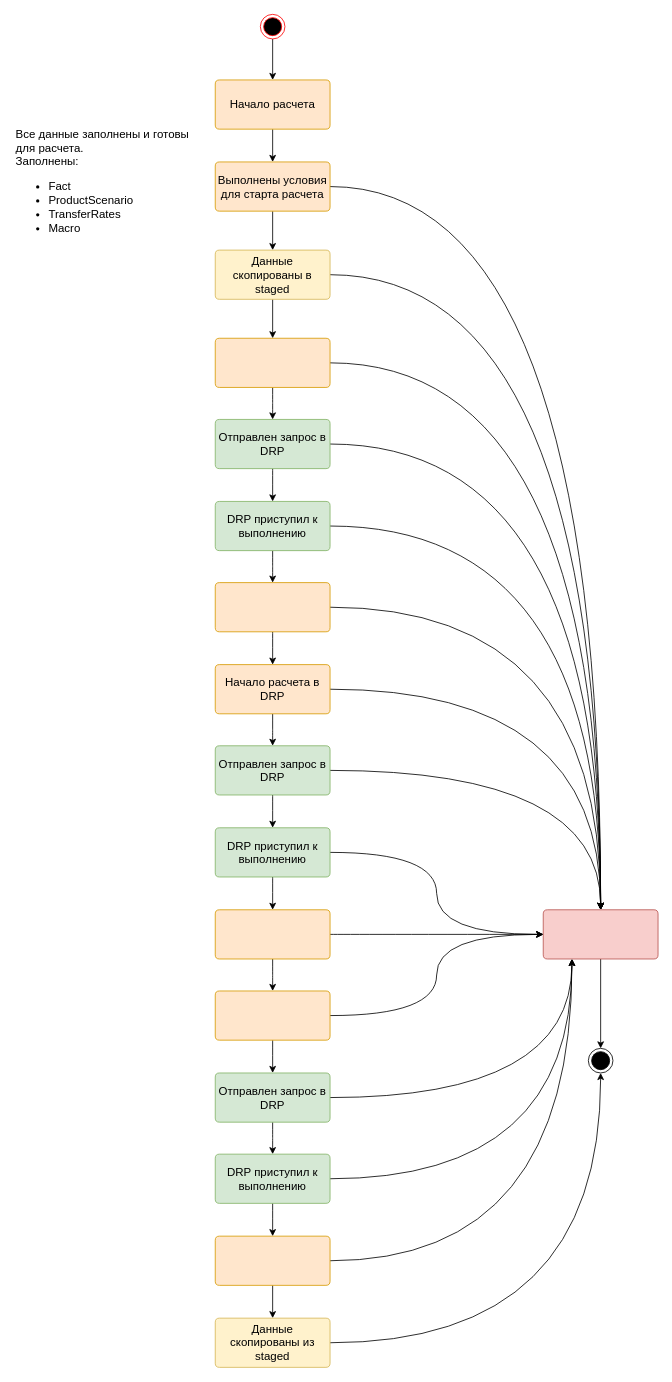
Some shapes in this 672 by 1382 pixel diagram are drawn without their labels. Each missing label, with the centre of its shape:
Все файлы выгружены в DRP: the point at 272,607
Начало загрузки результатов из DRP: the point at 272,1015
Окончание загрузки результатов из DRP: the point at 272,1260
Окончание расчета в DRP: the point at 272,934
Ошибка / Ошибка DRP: the point at 600,934
Старт загрузки в DRP: the point at 272,362
